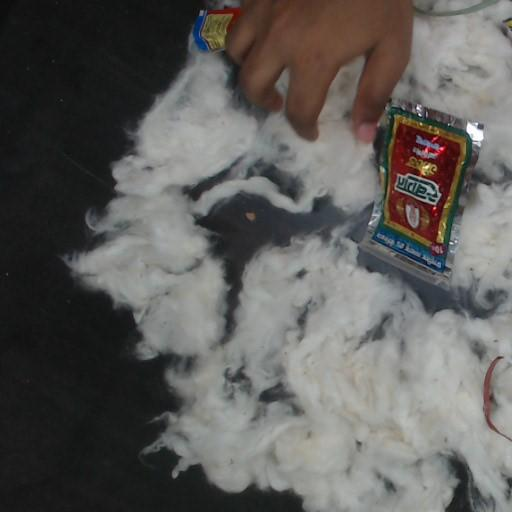cotton: (66, 54, 511, 511), (132, 296, 227, 324), (85, 398, 94, 406)
packet: (362, 103, 483, 288), (192, 9, 240, 51)
thread: (483, 356, 511, 441)
